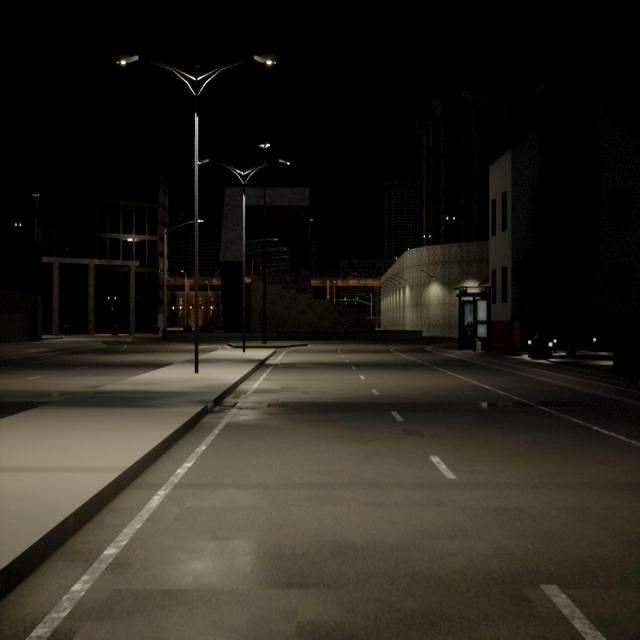traffic_light: (356, 297, 359, 300), (344, 298, 346, 300), (355, 302, 357, 304), (346, 302, 348, 304)
